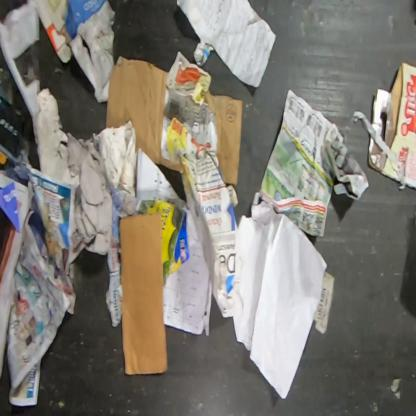cardboard: (105, 56, 243, 186), (118, 212, 169, 376), (371, 61, 415, 191), (368, 135, 402, 185)
